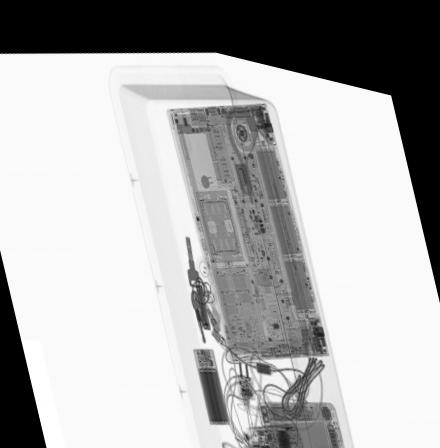Powerbank: (191, 335, 229, 411)
